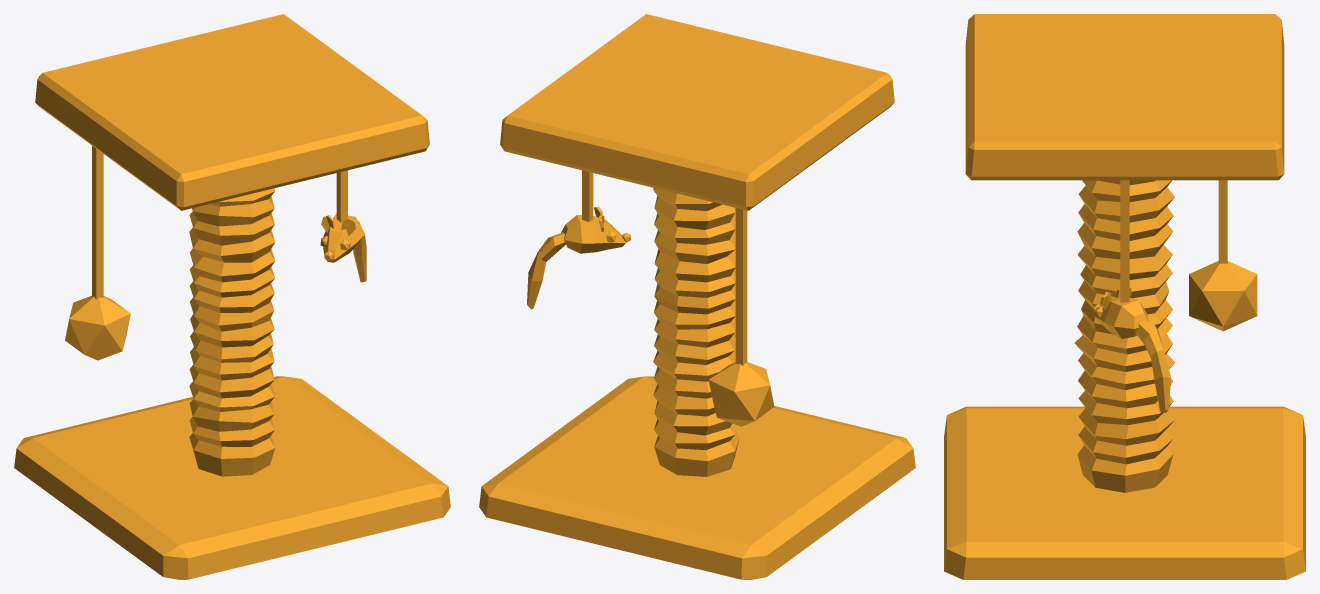
Rendered from SM_Scratcher_Pole_B.fbx.
3 views of the same model, side by side, from view 1: azimuth 30°, elevation 25°; view 2: azimuth 150°, elevation 25°; view 3: azimuth 270°, elevation 25° (orthographic). The views are drawn at different scales.
Parts seen in each view (by area): view 1: SM_Scratcher_Pole_B; view 2: SM_Scratcher_Pole_B; view 3: SM_Scratcher_Pole_B.
Boxes of the visible parts, x1,y1,x2,y2 form: SM_Scratcher_Pole_B: (14, 14, 450, 579); SM_Scratcher_Pole_B: (479, 14, 915, 579); SM_Scratcher_Pole_B: (944, 14, 1305, 579).
Size of the model in its own units: 0.3667 by 0.4738 by 0.3587.
